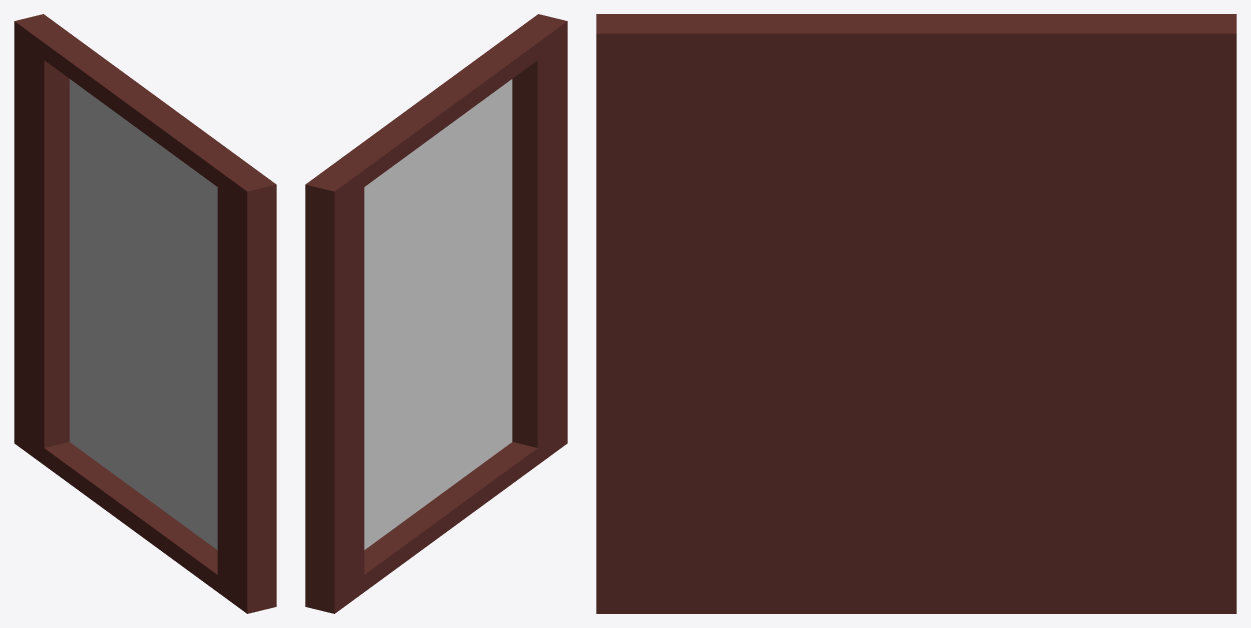
File: BigPortrait.fbx
The picture shows the model from 3 angles, left to right: view 1: azimuth 30°, elevation 25°; view 2: azimuth 150°, elevation 25°; view 3: azimuth 270°, elevation 25°; orthographic projection. The views are drawn at different scales.
Parts seen in each view (by area): view 1: Cube.097; view 2: Cube.097; view 3: Cube.097.
Boxes of the visible parts, x1,y1,x2,y2 form: Cube.097: (14, 14, 276, 613); Cube.097: (305, 14, 567, 613); Cube.097: (596, 14, 1236, 613).
Bounding box in the file's own units: 16.76 × 231 × 231.
